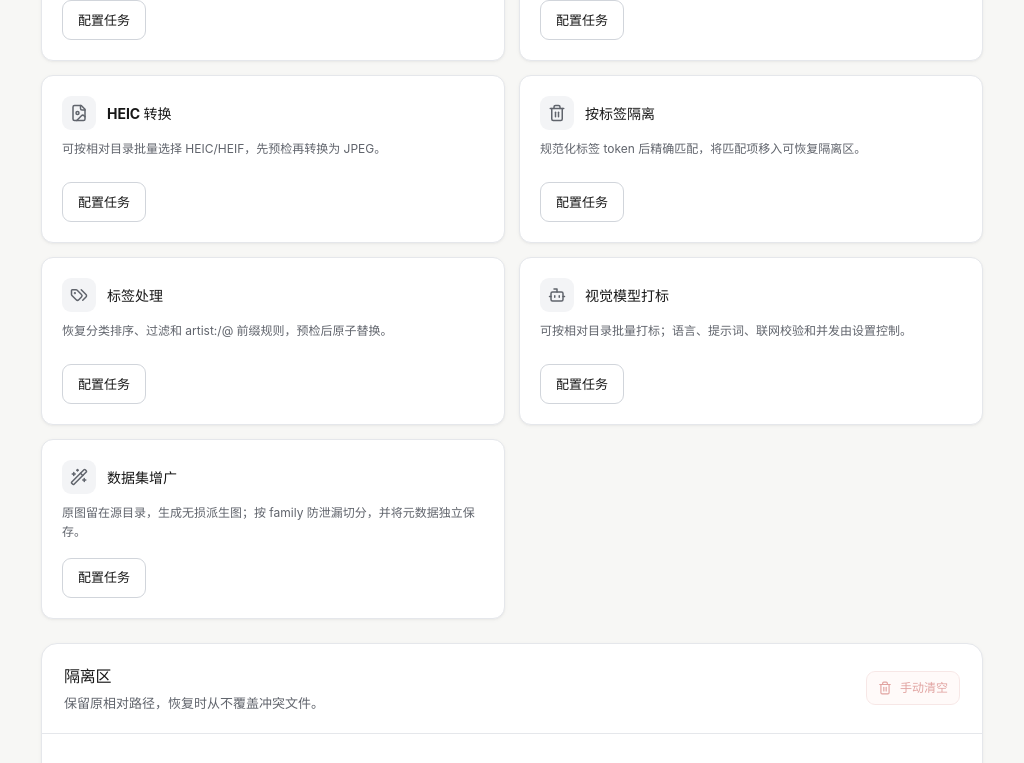
Test: ToolsView media selection boundary › opens directory and prefix configuration for tag processing
The image size is (1024, 763).
(page scrolled)
Click the button "配置任务" below "恢复分类排序、过滤和 artist:/@ 前缀规则，预检后原子替换。": (104, 384) [62,364,146,404]
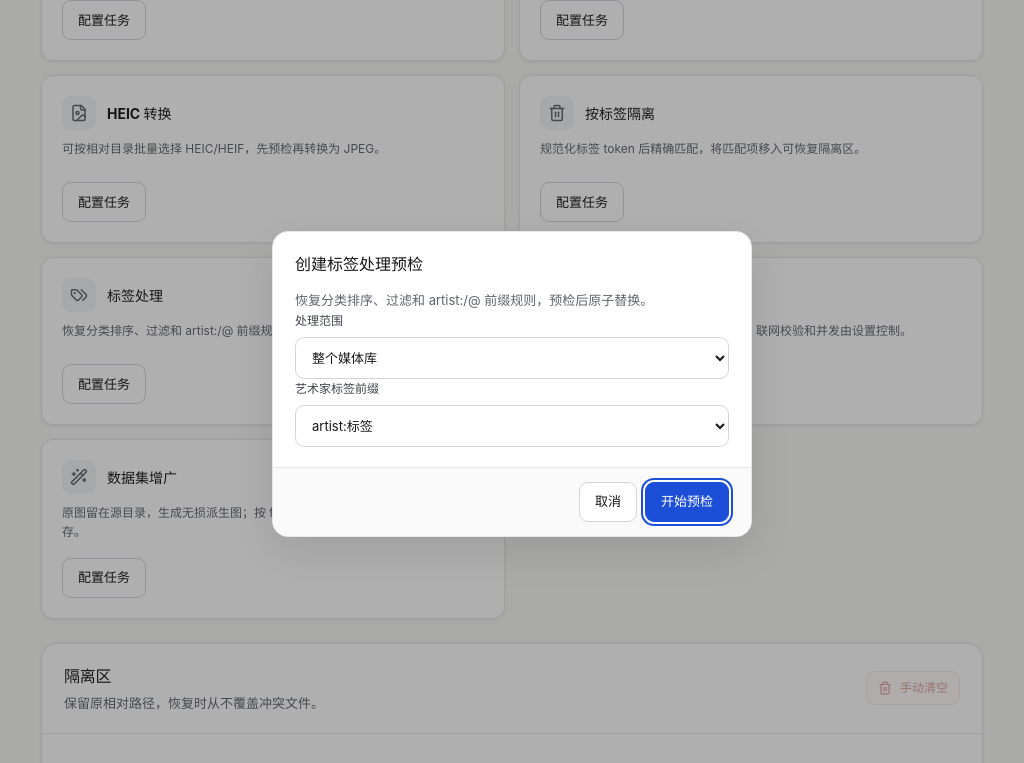
Result: the dropdown labelled "艺术家标签前缀" is shown at [295,405,729,447]
